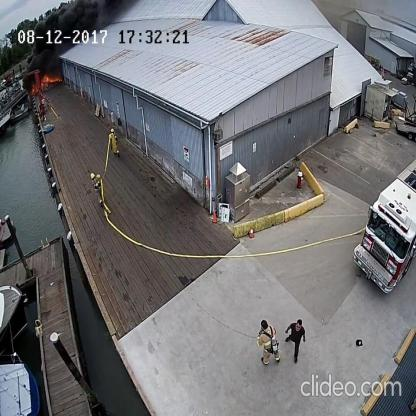fire: (29, 67, 62, 97)
